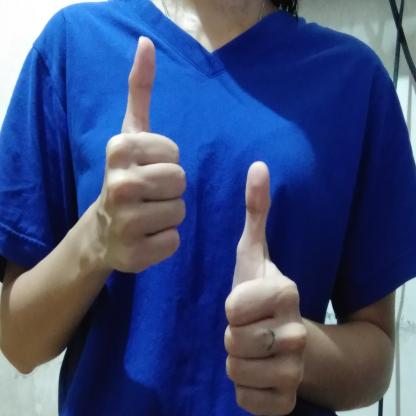which: (90, 32, 310, 416)
